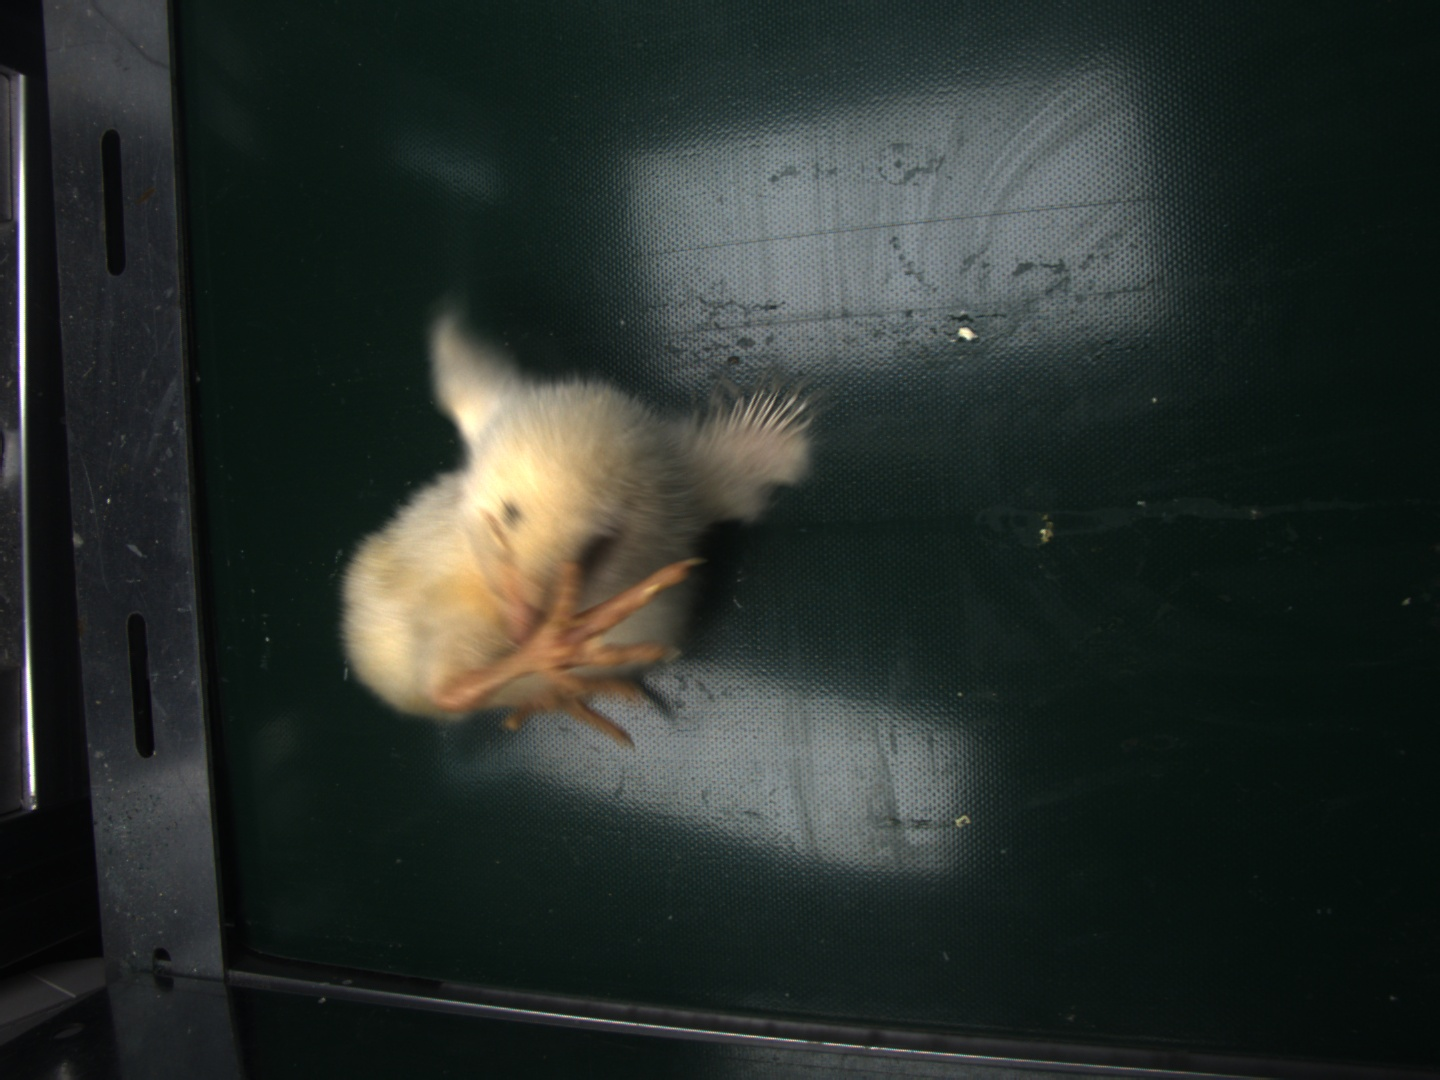male: (725, 382, 813, 442)
